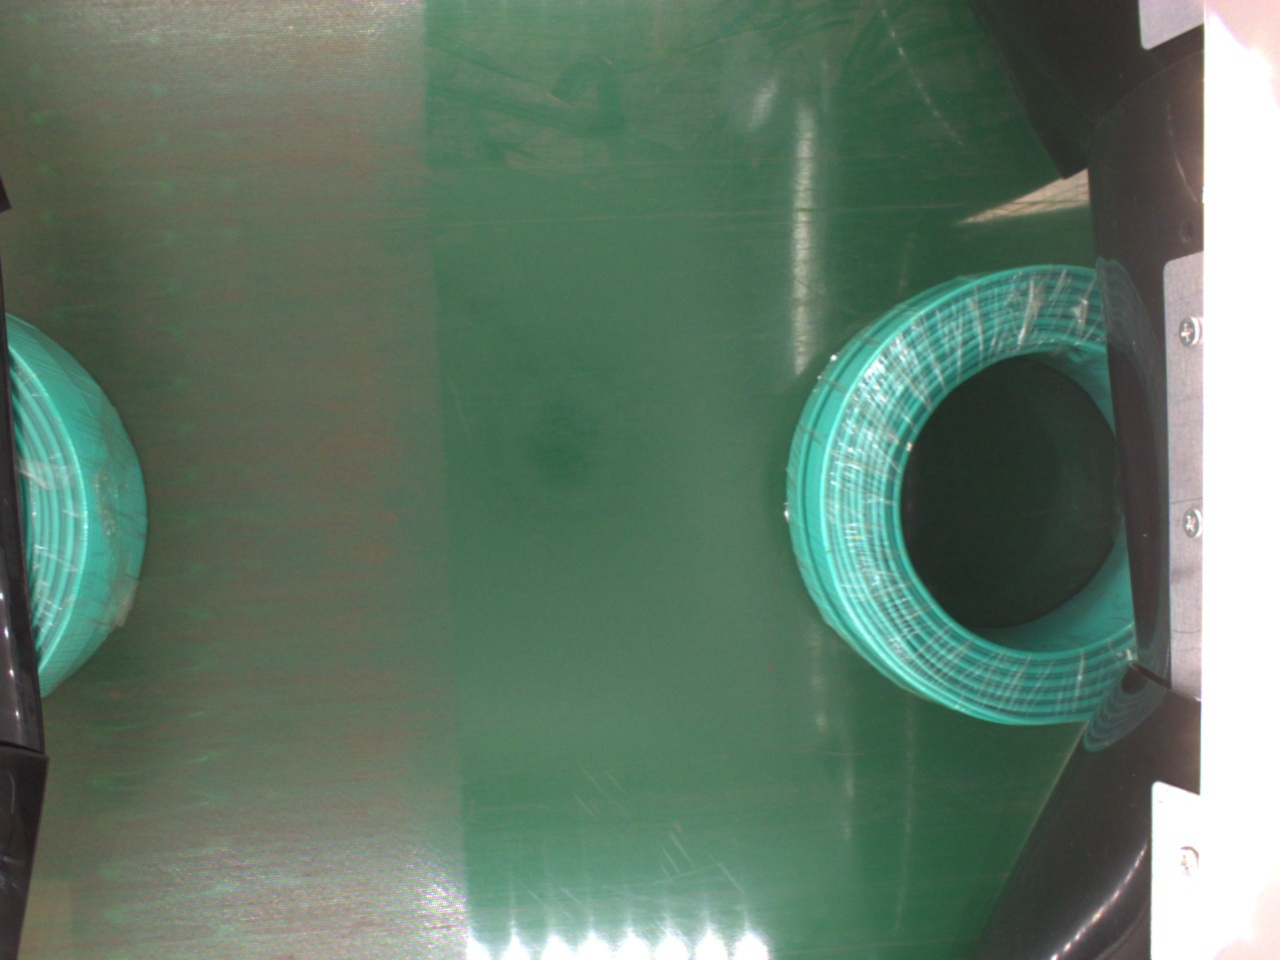green: (787, 258, 1135, 734), (5, 313, 156, 688)
